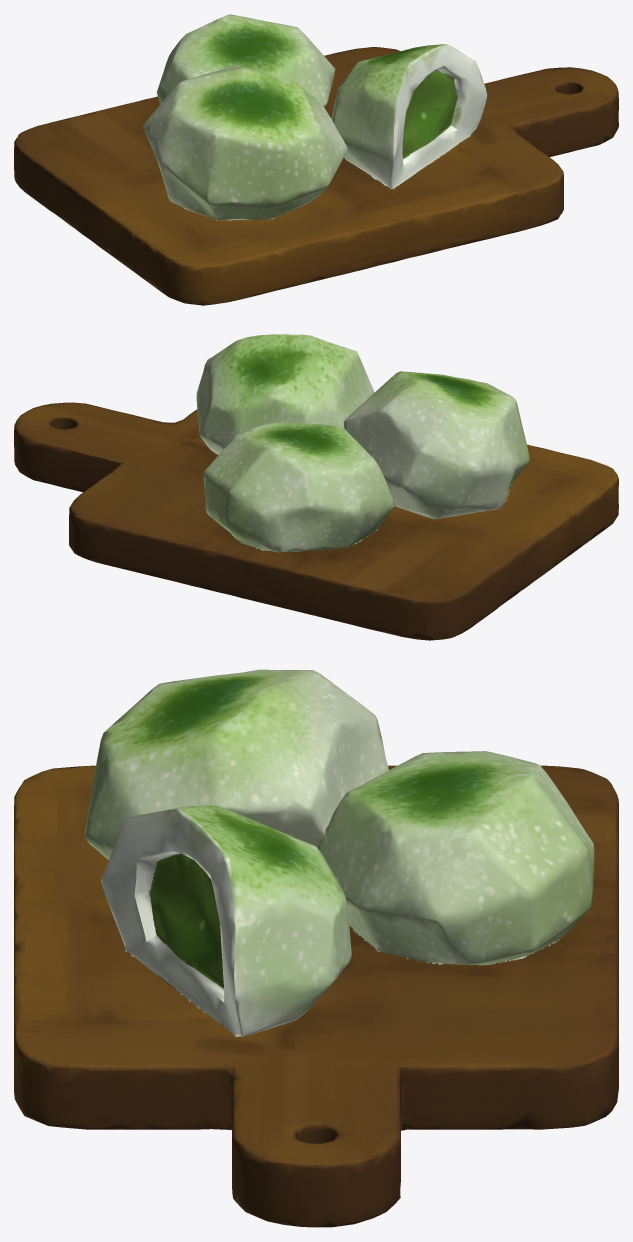
The model's file is mochi.glb.
3 renders of one model, top to bottom at view 1: azimuth 30°, elevation 25°; view 2: azimuth 150°, elevation 25°; view 3: azimuth 270°, elevation 25°, orthographic. The views are drawn at different scales.
Parts seen in each view (by area): view 1: world; view 2: world; view 3: world.
Part boxes in pixels (box(x1,y1,x2,y2)): world: box(14, 14, 618, 305); world: box(14, 334, 618, 640); world: box(14, 669, 618, 1227).
Size of the model in its own units: 1 by 0.2839 by 0.6393.
1 material, 1 textured.
